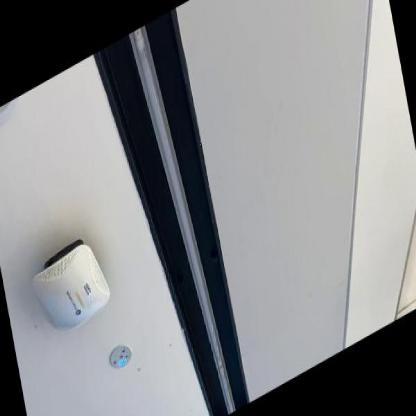light_off: (124, 13, 242, 414)
